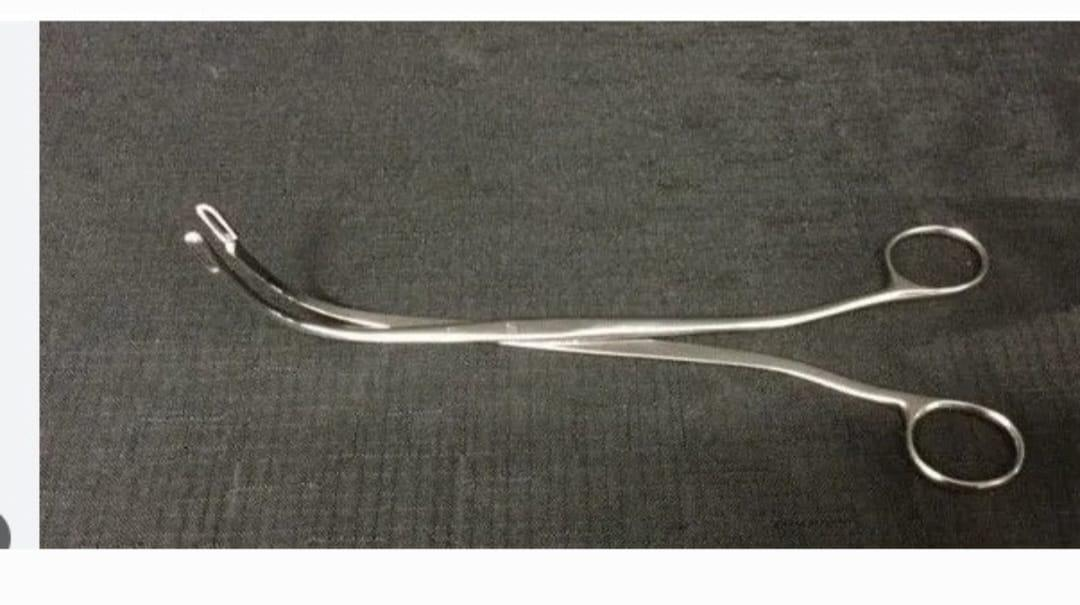Randall Forceps: (172, 180, 1041, 507)
